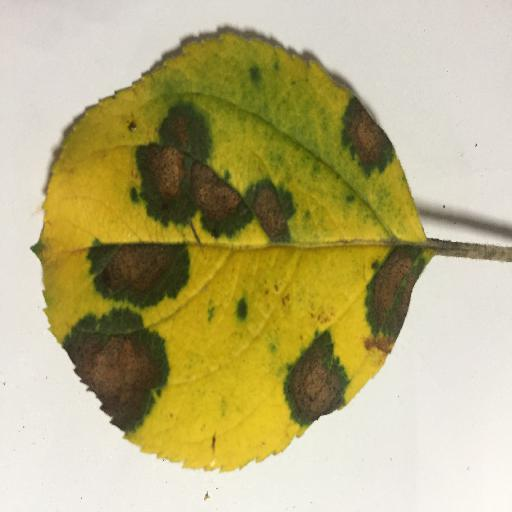Brown_Spot: (129, 113, 249, 225), (62, 318, 160, 437), (89, 242, 196, 310), (360, 243, 419, 342), (279, 340, 349, 416), (337, 97, 401, 175), (248, 181, 305, 240)
